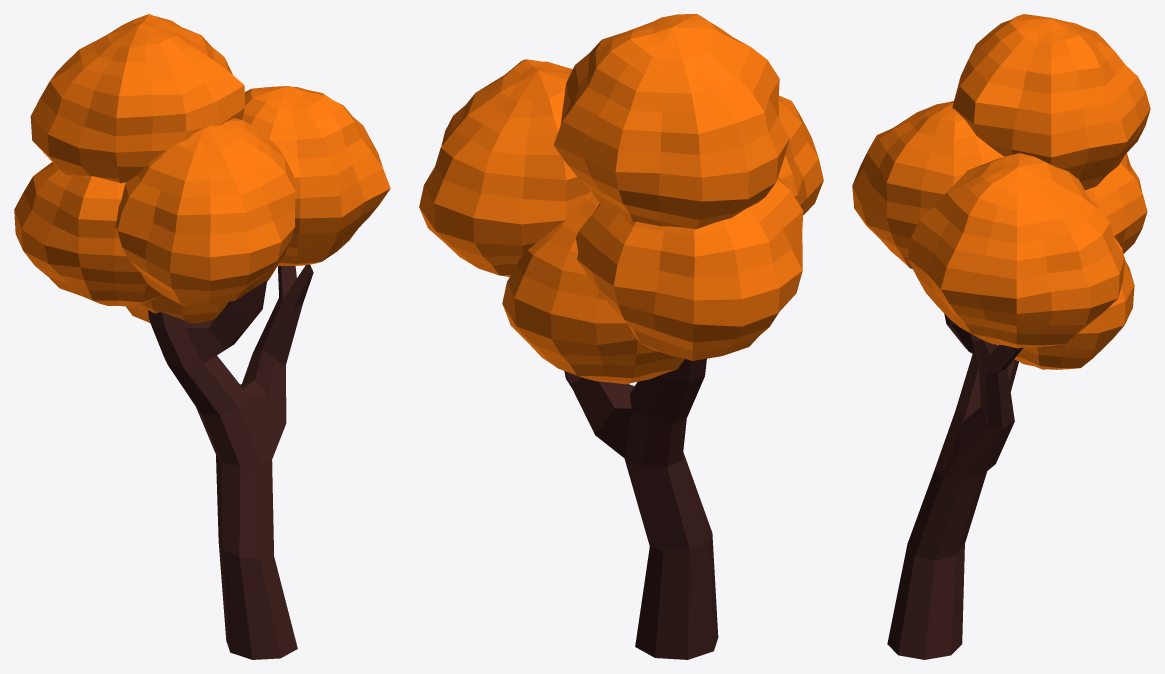
The model's file is Tree1.fbx.
3 views of the same model, side by side, from view 1: azimuth 30°, elevation 25°; view 2: azimuth 150°, elevation 25°; view 3: azimuth 270°, elevation 25° (orthographic). The views are drawn at different scales.
Visible parts, largest first — view 1: Tree1; view 2: Tree1; view 3: Tree1.
Part boxes in pixels (x1,y1,x2,y2): Tree1: (14,14,390,659); Tree1: (419,14,823,659); Tree1: (852,14,1150,659).
Size of the model in its own units: 2599 by 4539 by 2059.
